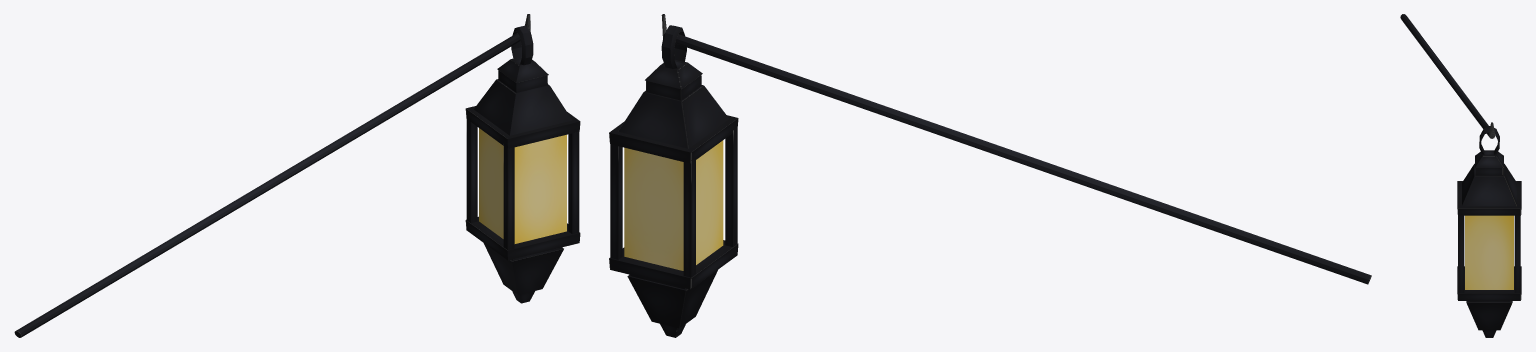
Rendered from LanternAssetLongStick.fbx.
3 views of the same model, side by side, from view 1: azimuth 30°, elevation 25°; view 2: azimuth 150°, elevation 25°; view 3: azimuth 270°, elevation 25° (orthographic). The views are drawn at different scales.
Visible parts, largest first — view 1: pCylinder2; view 2: pCylinder2; view 3: pCylinder2.
Part boxes in pixels (<box>): pCylinder2: <box>14,14,580,337</box>; pCylinder2: <box>609,14,1371,337</box>; pCylinder2: <box>1400,14,1521,337</box>.
Bounding box in the file's own units: 32.64 × 14.76 × 7.49.
1 material, 1 textured.
